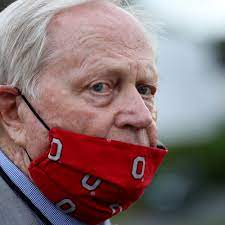with_incorrect_mask: (30, 23, 160, 217)
